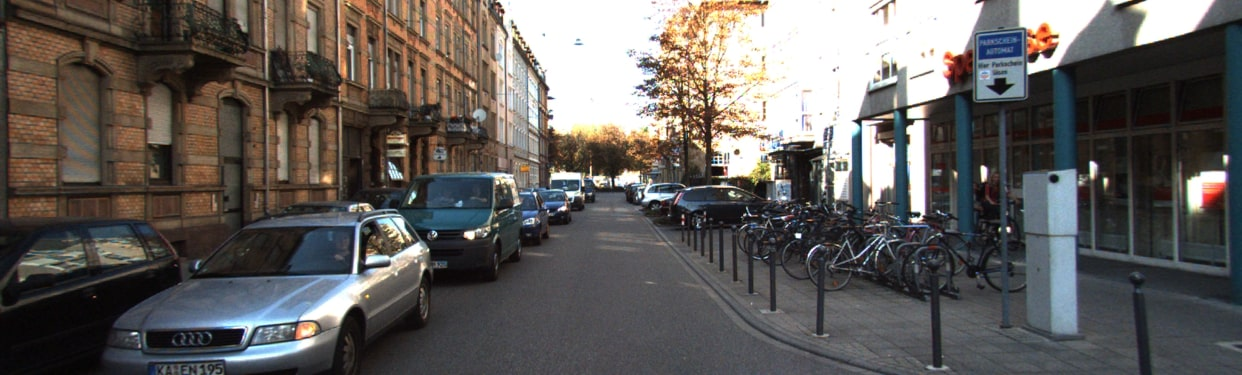car: (89, 208, 435, 369), (409, 172, 513, 274), (515, 188, 548, 240), (548, 193, 574, 226), (561, 179, 578, 210)
